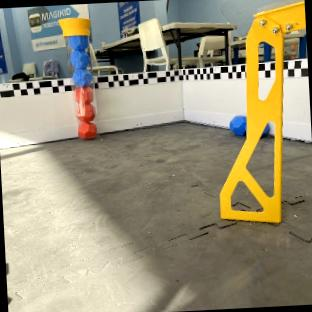V5_BLUE: (67, 33, 92, 86), (229, 115, 246, 135)
V5_RED: (74, 85, 95, 120), (77, 121, 96, 138)
